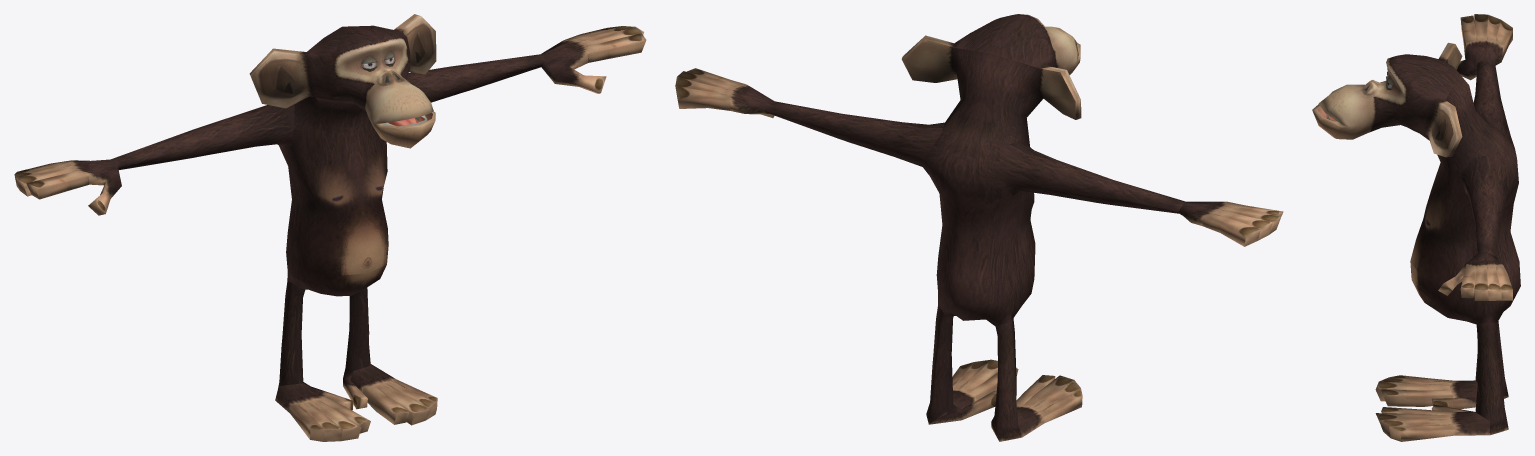
The model's file is monkey.obj.
3 renders of one model, left to right at view 1: azimuth 30°, elevation 25°; view 2: azimuth 150°, elevation 25°; view 3: azimuth 270°, elevation 25°, orthographic. The views are drawn at different scales.
Visible parts, largest first — view 1: Mesh_0136_Mesh_0136Mesh; view 2: Mesh_0136_Mesh_0136Mesh; view 3: Mesh_0136_Mesh_0136Mesh.
Part boxes in pixels (x1,y1,x2,y2): Mesh_0136_Mesh_0136Mesh: (14,14,646,441); Mesh_0136_Mesh_0136Mesh: (675,14,1283,441); Mesh_0136_Mesh_0136Mesh: (1312,14,1520,441).
Size of the model in its own units: 1.95 by 1.17 by 0.6222.
